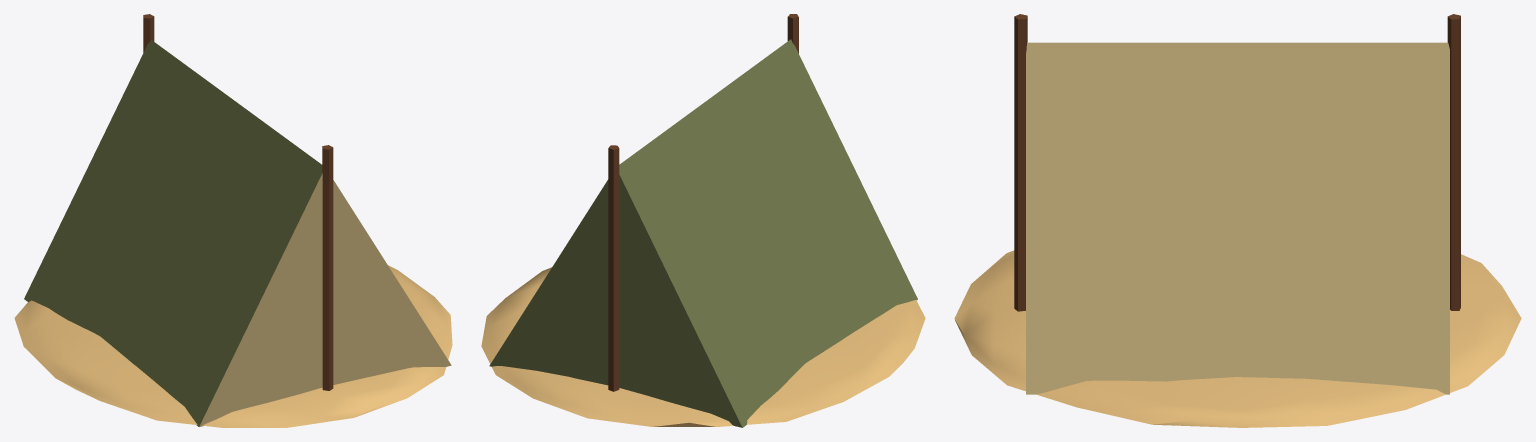
Rendered from DigTent.fbx.
3 views of the same model, side by side, from view 1: azimuth 30°, elevation 25°; view 2: azimuth 150°, elevation 25°; view 3: azimuth 270°, elevation 25° (orthographic). The views are drawn at different scales.
Visible parts, largest first — view 1: DigTent; view 2: DigTent; view 3: DigTent.
Boxes of the visible parts, x1,y1,x2,y2 form: DigTent: (14,14,452,427); DigTent: (481,14,925,427); DigTent: (954,14,1521,427).
Bounding box in the file's own units: 2.18 × 1.42 × 2.41.
Materials: 1 (1 with a texture image).
